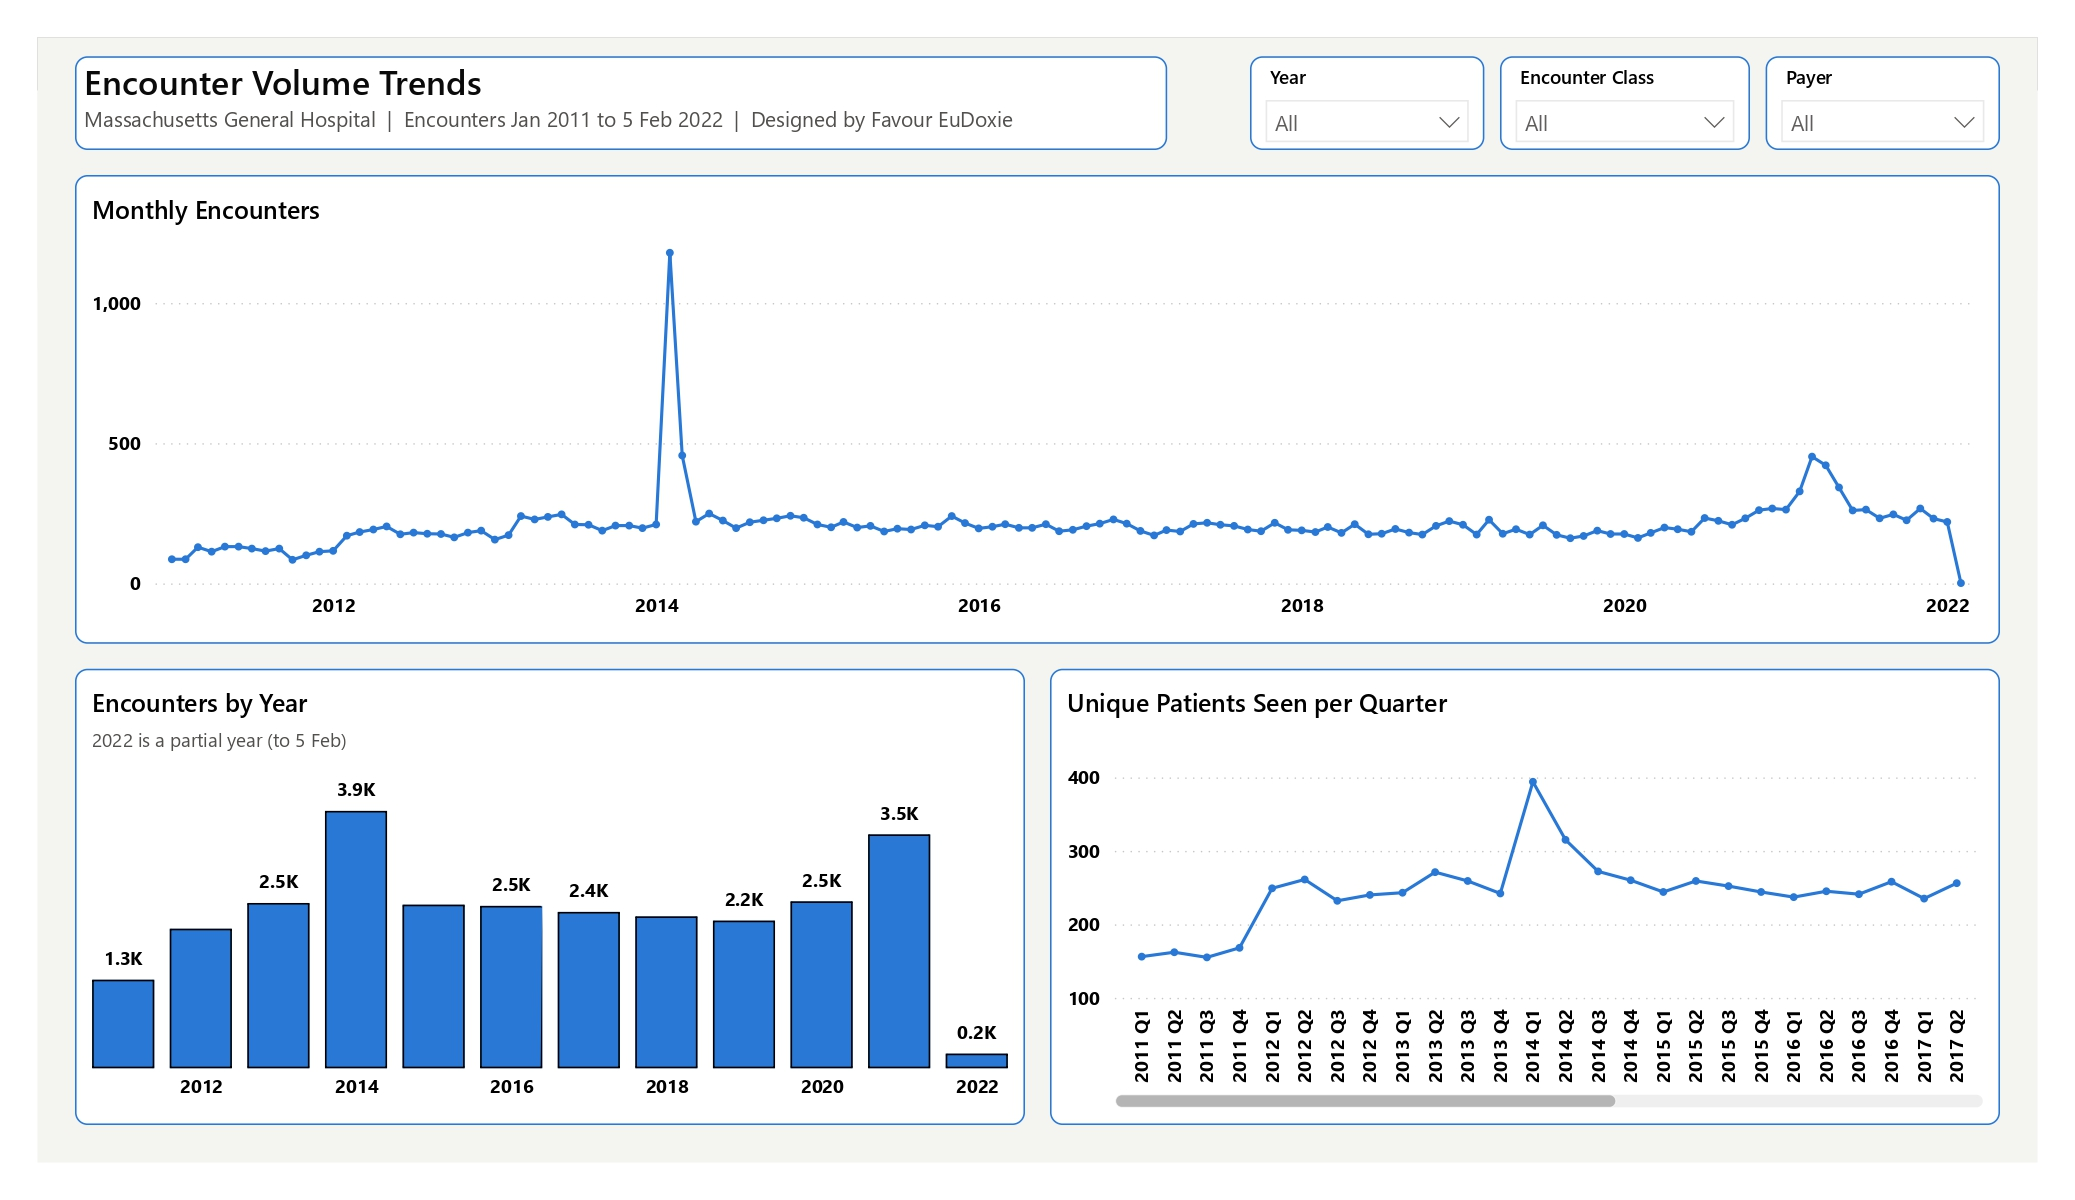

What the dashboard file says about the page in this screenshot:
{"tool":"powerbi","page":{"name":"Encounter Trends","canvas":[1280,720],"ordinal":1},"visuals":[{"type":"textbox","box":[24,12,699.1,60],"z":1000},{"type":"slicer","fields":{"Values":["Date.Year"]},"box":[776,12,150,60],"z":3000},{"type":"slicer","fields":{"Values":["Encounters.Encounter Class"]},"box":[936,12,160,60],"z":4000},{"type":"slicer","fields":{"Values":["Payers.Payer"]},"box":[1106,12,150,60],"z":5000},{"type":"lineChart","title":"Monthly Encounters","fields":{"Category":["Date.Month Start"],"Y":["Encounters.Total Encounters"]},"box":[24,88,1232,300],"z":6000},{"type":"clusteredColumnChart","title":"Encounters by Year","fields":{"Category":["Date.Year"],"Y":["Encounters.Total Encounters"]},"box":[24,404,608,292],"z":7000},{"type":"lineChart","title":"Unique Patients Seen per Quarter","fields":{"Category":["Date.Year Quarter"],"Y":["Encounters.Unique Patients"]},"box":[648,404,608,292],"z":8000}]}

Visuals, with their boxes on the page's 1280x720 design canvas (x1, y1, x2, y2). These are canvas units, not pixel positions in the 2075x1200 screenshot, which may show the page scaled, cropped or inside an application window:
textbox: l=24, t=12, r=723, b=72
slicer - Date.Year: l=776, t=12, r=926, b=72
slicer - Encounters.Encounter Class: l=936, t=12, r=1096, b=72
slicer - Payers.Payer: l=1106, t=12, r=1256, b=72
"Monthly Encounters" lineChart: l=24, t=88, r=1256, b=388
"Encounters by Year" clusteredColumnChart: l=24, t=404, r=632, b=696
"Unique Patients Seen per Quarter" lineChart: l=648, t=404, r=1256, b=696
